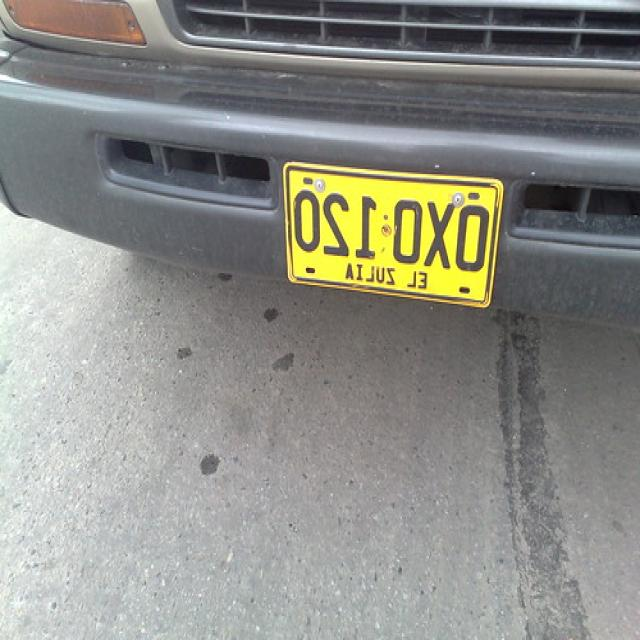placas: (289, 178, 494, 278)
